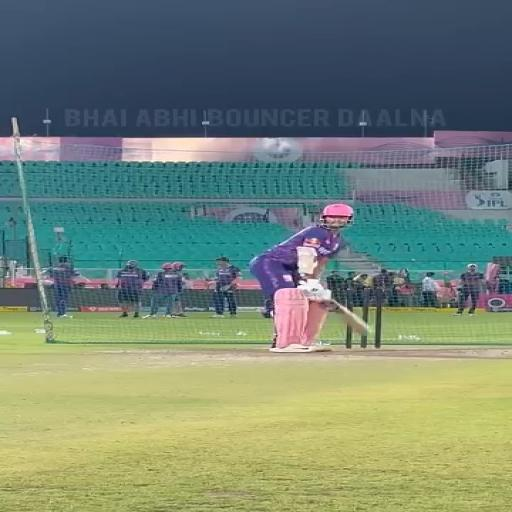Cricket bat: (317, 298, 366, 334)
